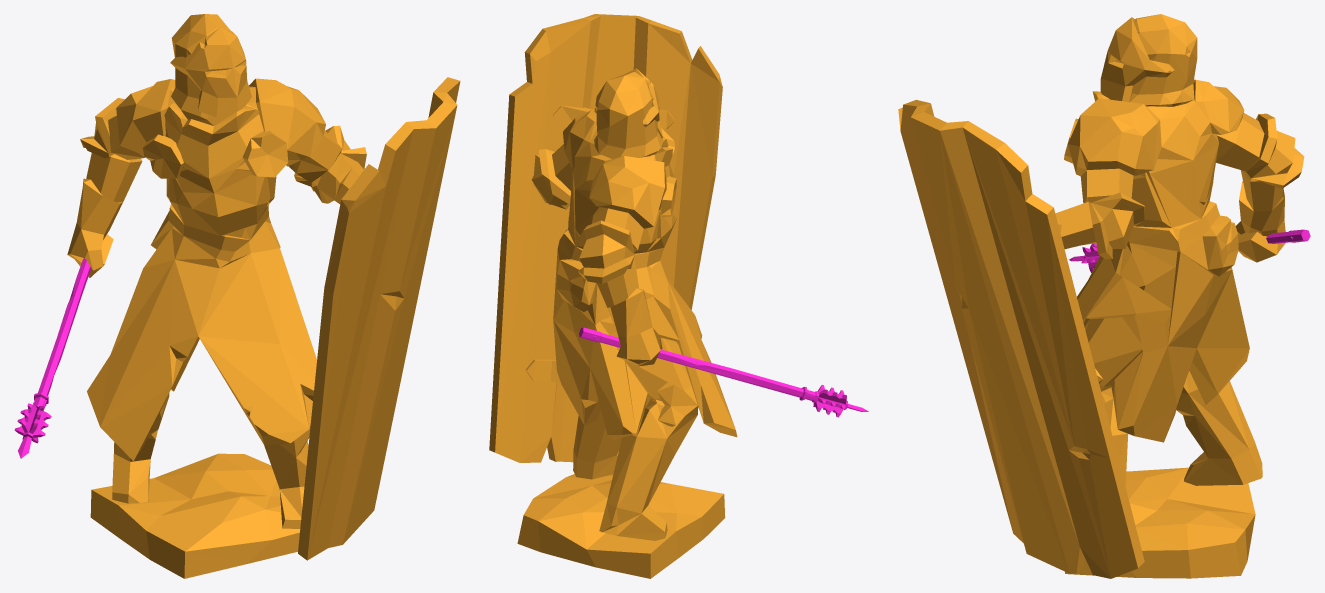
Rendered from SM_Statue_Juggernout_Fighting_Fantasy.fbx.
3 renders of one model, left to right at view 1: azimuth 30°, elevation 25°; view 2: azimuth 150°, elevation 25°; view 3: azimuth 270°, elevation 25°, orthographic. The views are drawn at different scales.
Parts seen in each view (by area): view 1: SM_Statue_Juggernout_Fighting_Fantasy; view 2: SM_Statue_Juggernout_Fighting_Fantasy; view 3: SM_Statue_Juggernout_Fighting_Fantasy.
Part boxes in pixels (x1,y1,x2,y2): SM_Statue_Juggernout_Fighting_Fantasy: [14, 14, 460, 578]; SM_Statue_Juggernout_Fighting_Fantasy: [489, 14, 868, 578]; SM_Statue_Juggernout_Fighting_Fantasy: [898, 14, 1310, 578].
Size of the model in its own units: 1.58 by 1.88 by 1.34.
